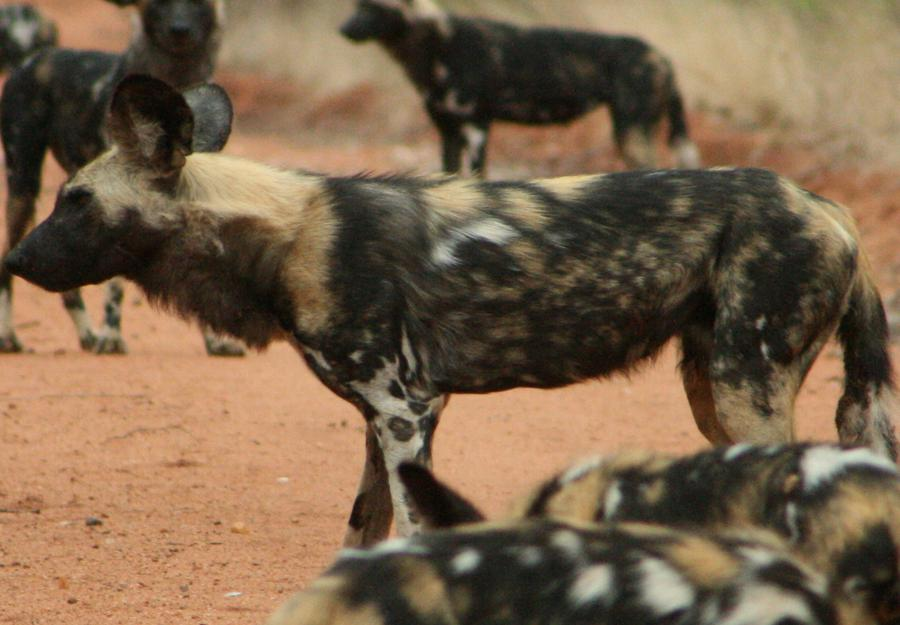wilddog: (1, 1, 900, 625)
